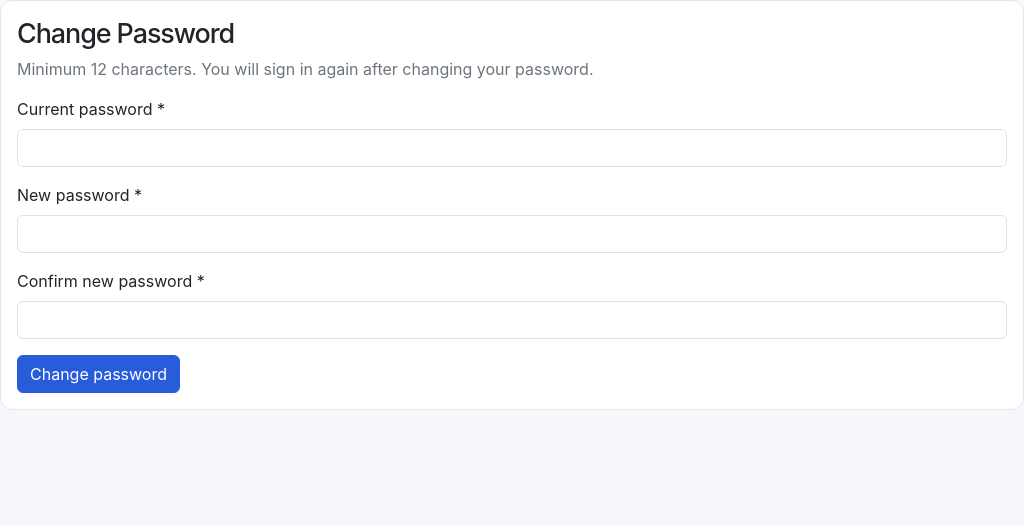
it: renders own-password fields and validates confirmation before sending
This screenshot has width=1024, height=525.
Step 1. Type "old-safe-passphrase" into the password field labelled "Current password *" → (512, 148), box [17, 129, 1007, 167]
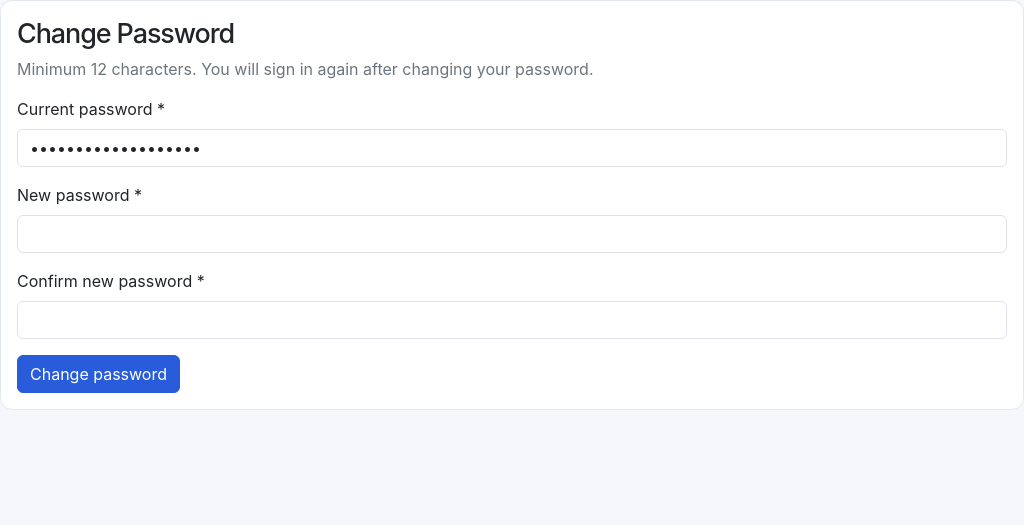
Step 2. Type "new-safe-passphrase" into the password field labelled "New password *" → (512, 234), box [17, 215, 1007, 253]
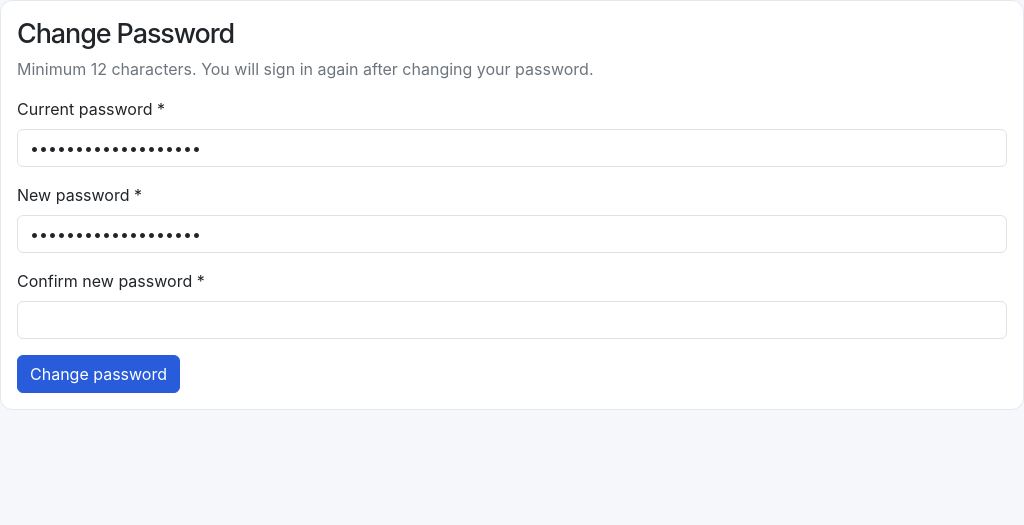
Step 3. Type "mismatch" into the password field labelled "Confirm new password *" → (512, 320), box [17, 301, 1007, 339]
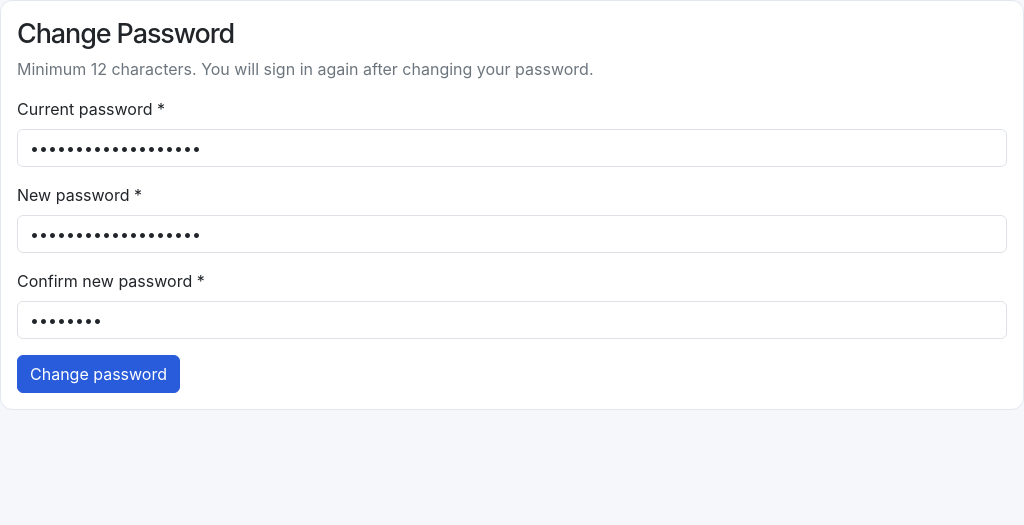
Step 4. Click the button "Change password" → (98, 374), box [17, 355, 180, 393]
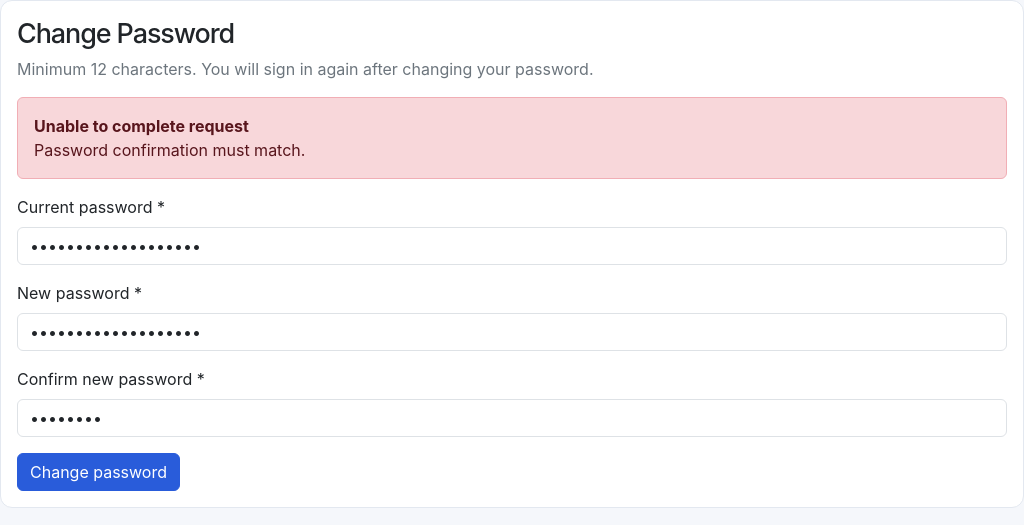
Check: the text "Password confirmation must match." is shown, box [34, 140, 305, 160]
